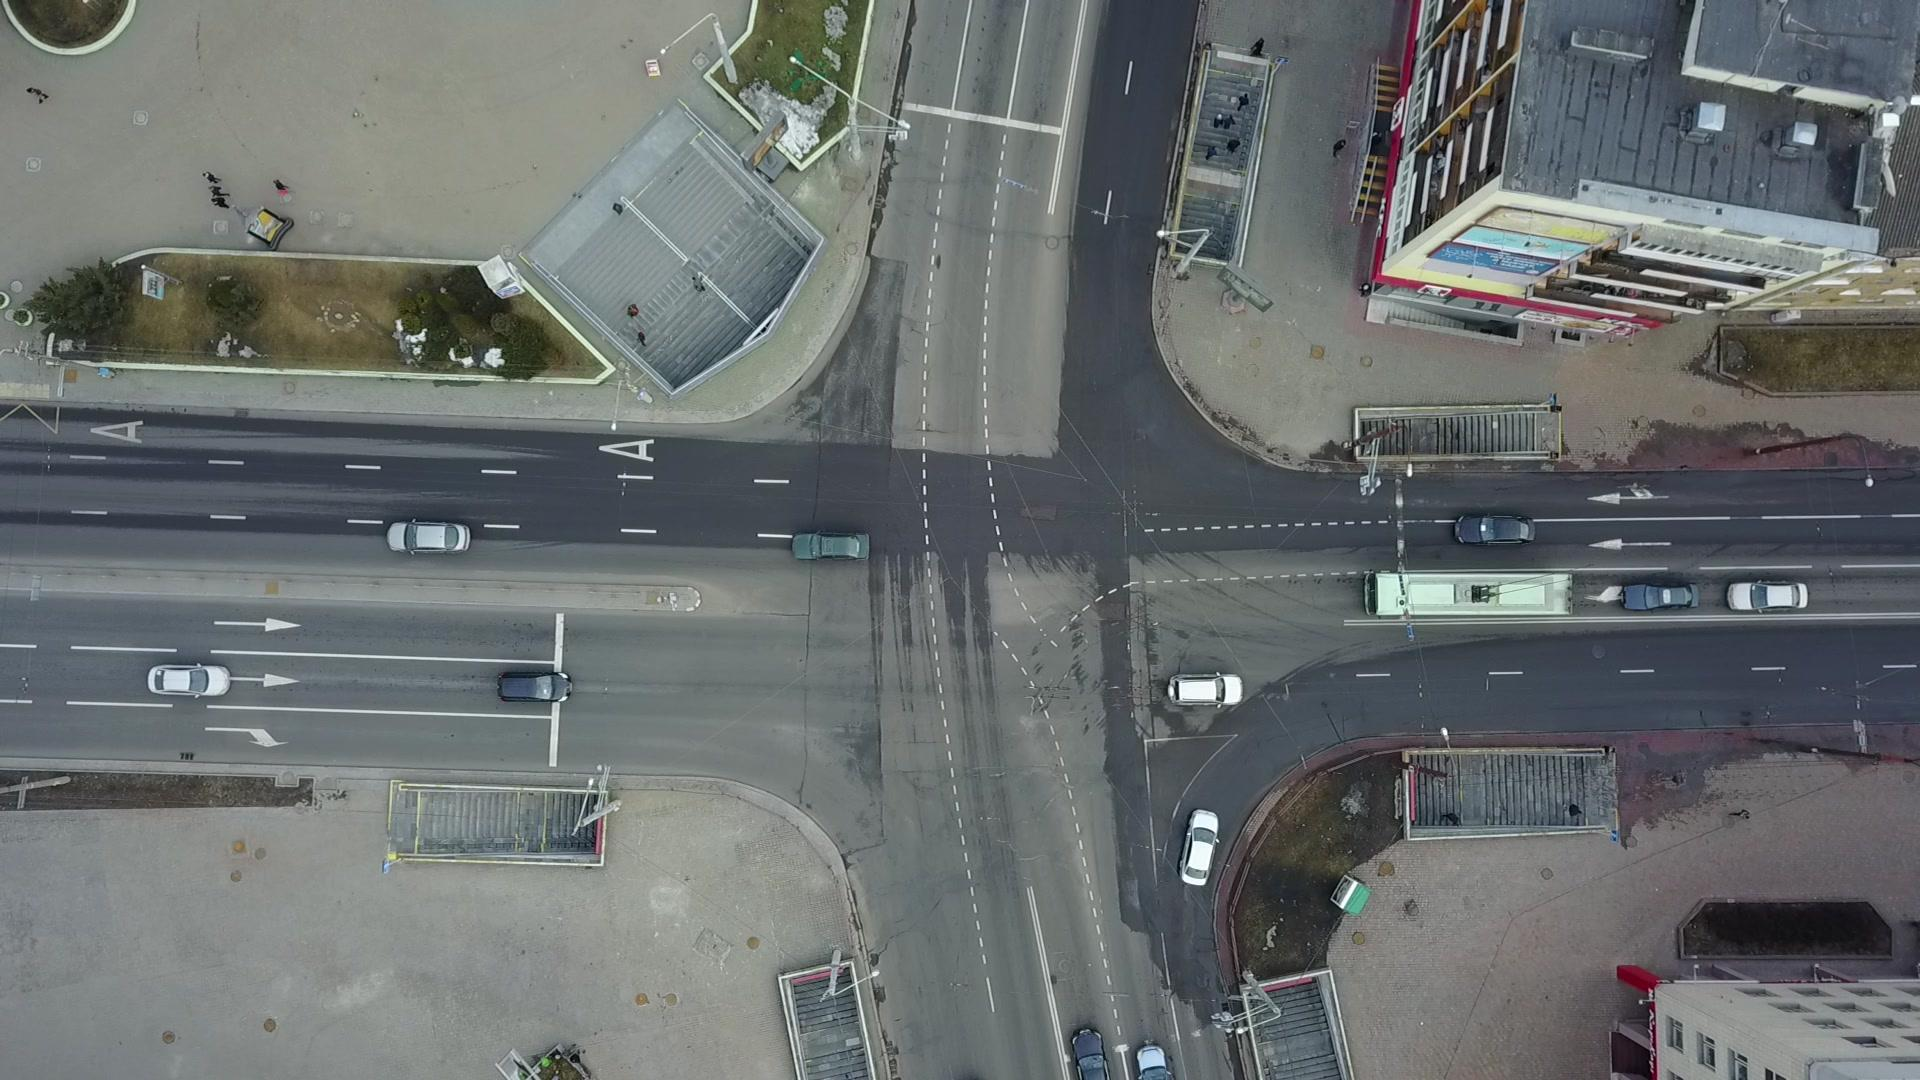car: (1178, 807, 1221, 887), (385, 517, 472, 554), (146, 662, 232, 698), (789, 529, 872, 564), (1726, 579, 1809, 615), (1167, 670, 1244, 708), (496, 669, 574, 704), (1455, 513, 1536, 546), (1619, 582, 1701, 612)
